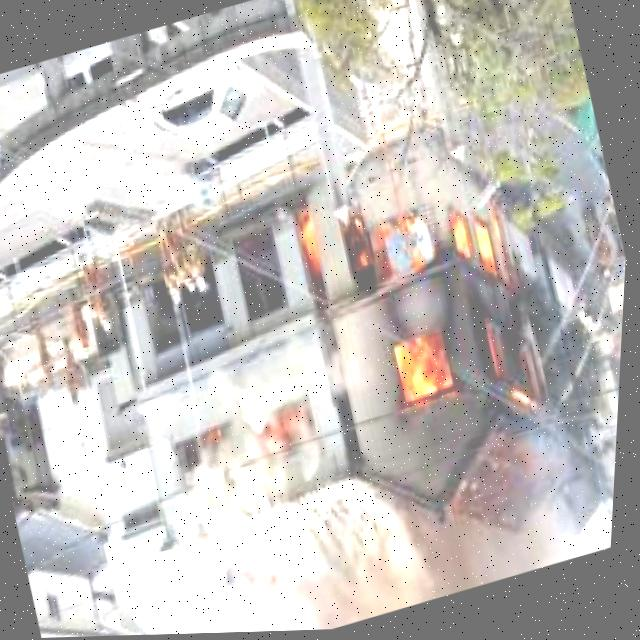Fire: (276, 141, 594, 475)
Smoke: (132, 439, 595, 636)
